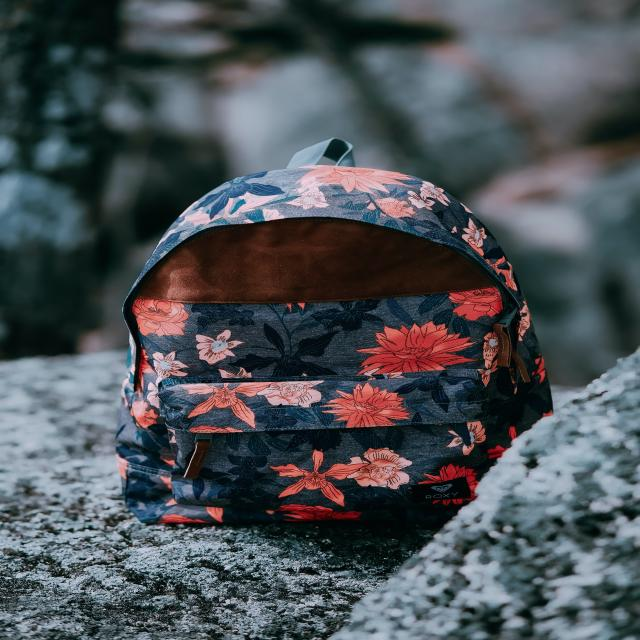backpack: (120, 138, 550, 522)
